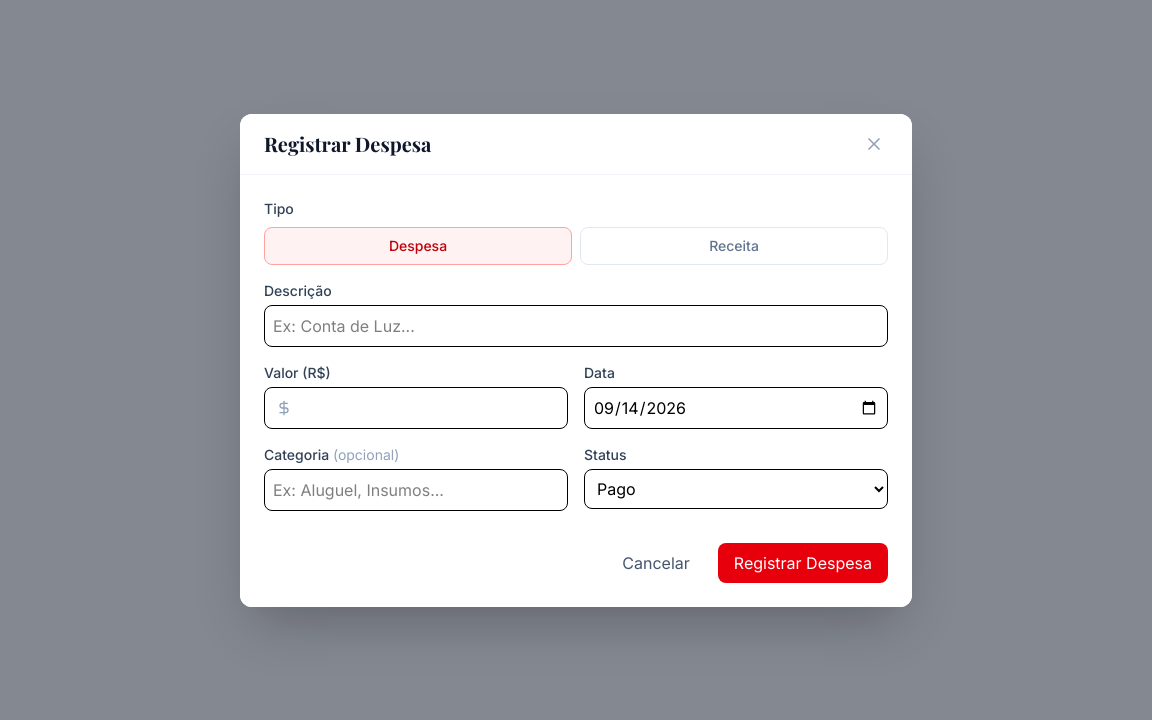
Scenario: NewExpenseModal — validação client-side › bloqueia submit com descrição vazia e mostra "Preencha a descrição e o valor."
Type "100" into the number field at (416, 408), box [264,386,568,428]
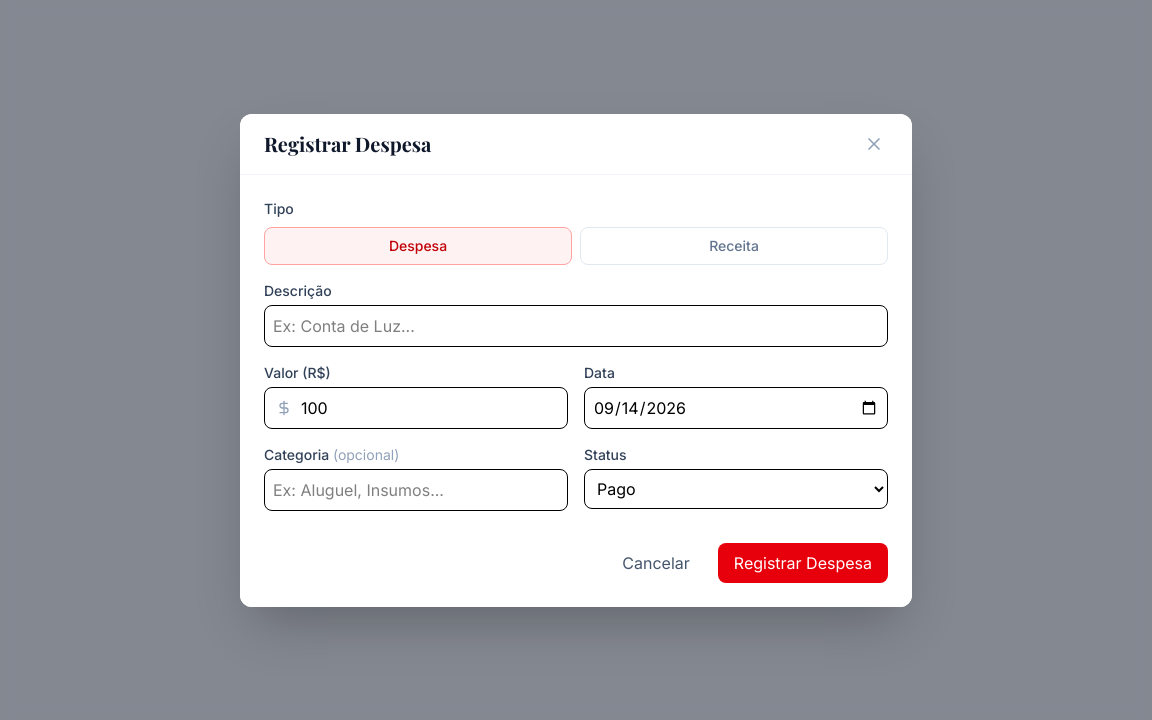
Submit the form with placeholder "Ex: Conta de Luz...", box [264,198,888,582]
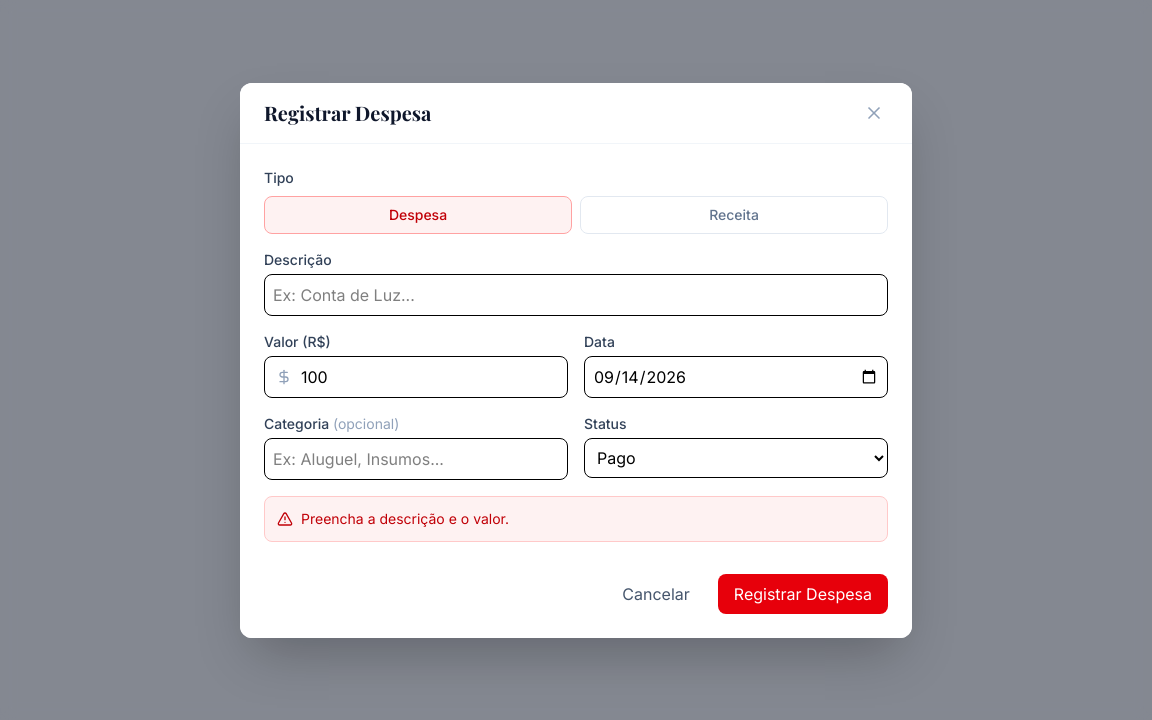
expect the text "Preencha a descrição e o valor." is shown: met, box [264,496,888,542]
